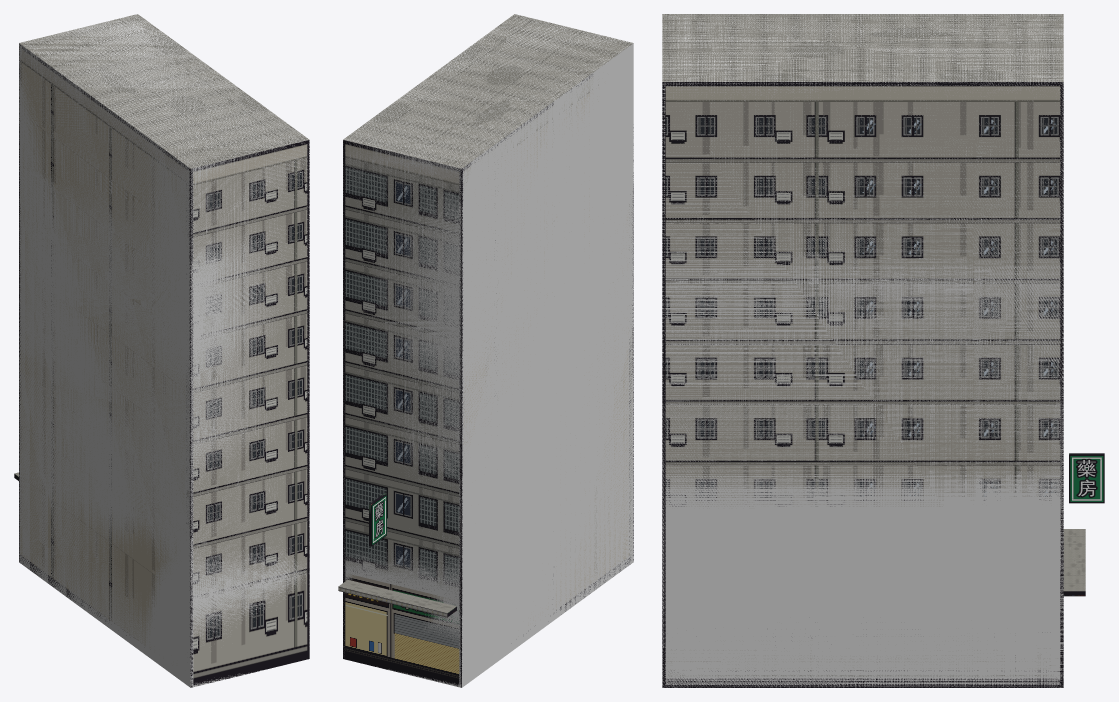
The picture shows the model from 3 angles, left to right: view 1: azimuth 30°, elevation 25°; view 2: azimuth 150°, elevation 25°; view 3: azimuth 270°, elevation 25°; orthographic projection. The views are drawn at different scales.
Visible parts, largest first — view 1: 19D-E02, COL_19D-E02_0; view 2: COL_19D-E02_0, 19D-E02; view 3: 19D-E02, COL_19D-E02_0.
Boxes of the visible parts, x1,y1,x2,y2 form: 19D-E02: (14,14,309,687); COL_19D-E02_0: (19,14,309,687); COL_19D-E02_0: (343,14,633,687); 19D-E02: (338,14,633,687); 19D-E02: (662,14,1104,687); COL_19D-E02_0: (662,14,1063,687).
Bounding box in the file's own units: 7.2 × 30 × 19.85.
1 material, 1 textured.
